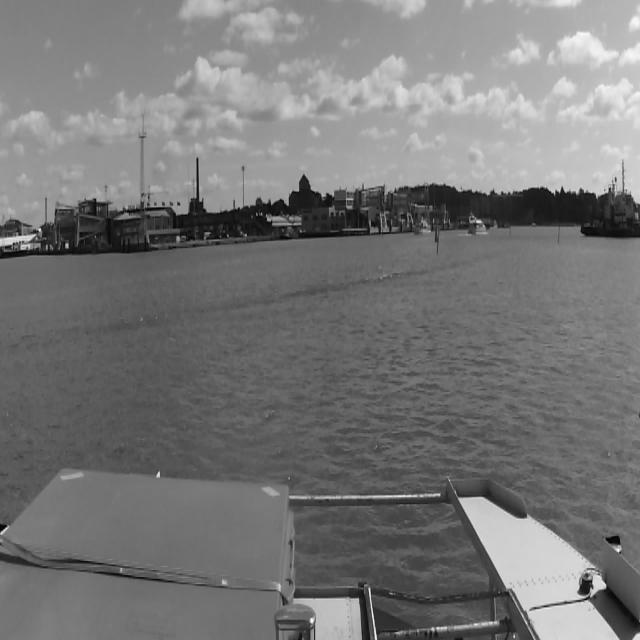buoy: (435, 225, 439, 244)
ship: (580, 180, 638, 236), (411, 212, 433, 238), (468, 212, 486, 234)
